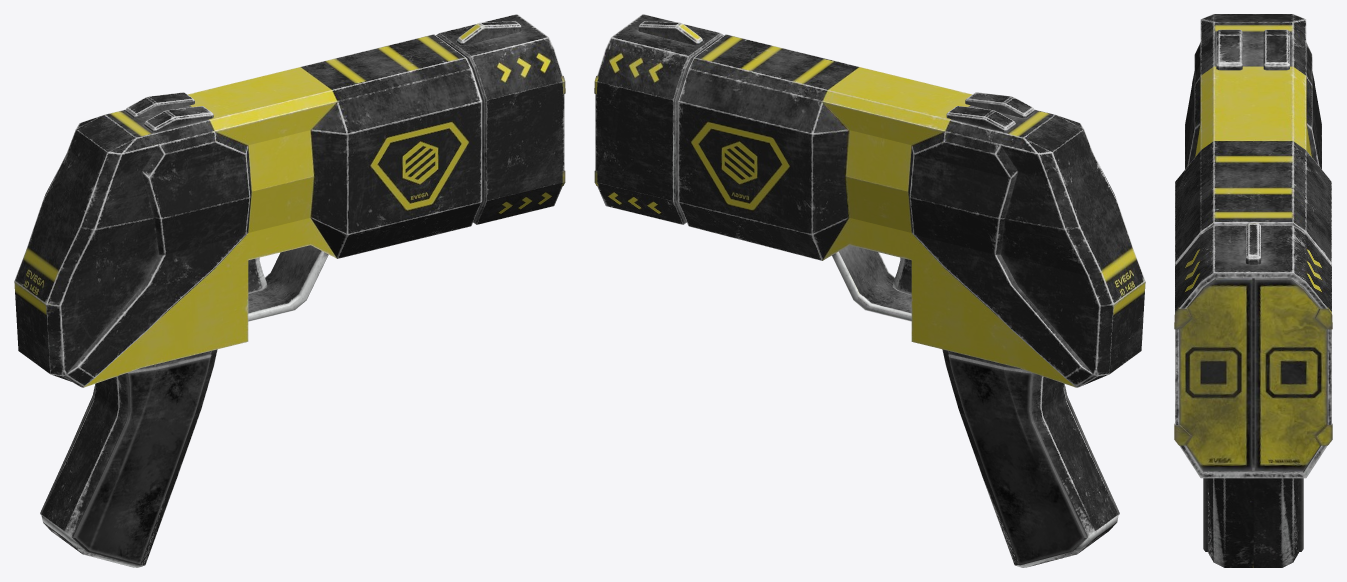
Rendered from taser.glb.
3 views of the same model, side by side, from view 1: azimuth 30°, elevation 25°; view 2: azimuth 150°, elevation 25°; view 3: azimuth 270°, elevation 25° (orthographic). The views are drawn at different scales.
Visible parts, largest first — view 1: pCube16, pCube12, pCube14, pCube10; view 2: pCube16, pCube12, pCube14, pCube10; view 3: pCube16, pCube13, pCube12, pCube10.
Part boxes in pixels (<box>): pCube16: <box>14,34,482,567</box>; pCube12: <box>436,14,564,224</box>; pCube14: <box>248,245,328,321</box>; pCube10: <box>125,21,521,132</box>; pCube16: <box>677,34,1145,567</box>; pCube12: <box>595,14,723,224</box>; pCube14: <box>832,245,911,321</box>; pCube10: <box>638,21,1034,131</box>; pCube16: <box>1175,14,1331,567</box>; pCube13: <box>1174,278,1332,470</box>; pCube12: <box>1175,225,1331,478</box>; pCube10: <box>1216,29,1289,264</box>.
Bounding box in the file's own units: 0.2215 × 0.1883 × 0.0484.
Materials: 1 (1 with a texture image).
